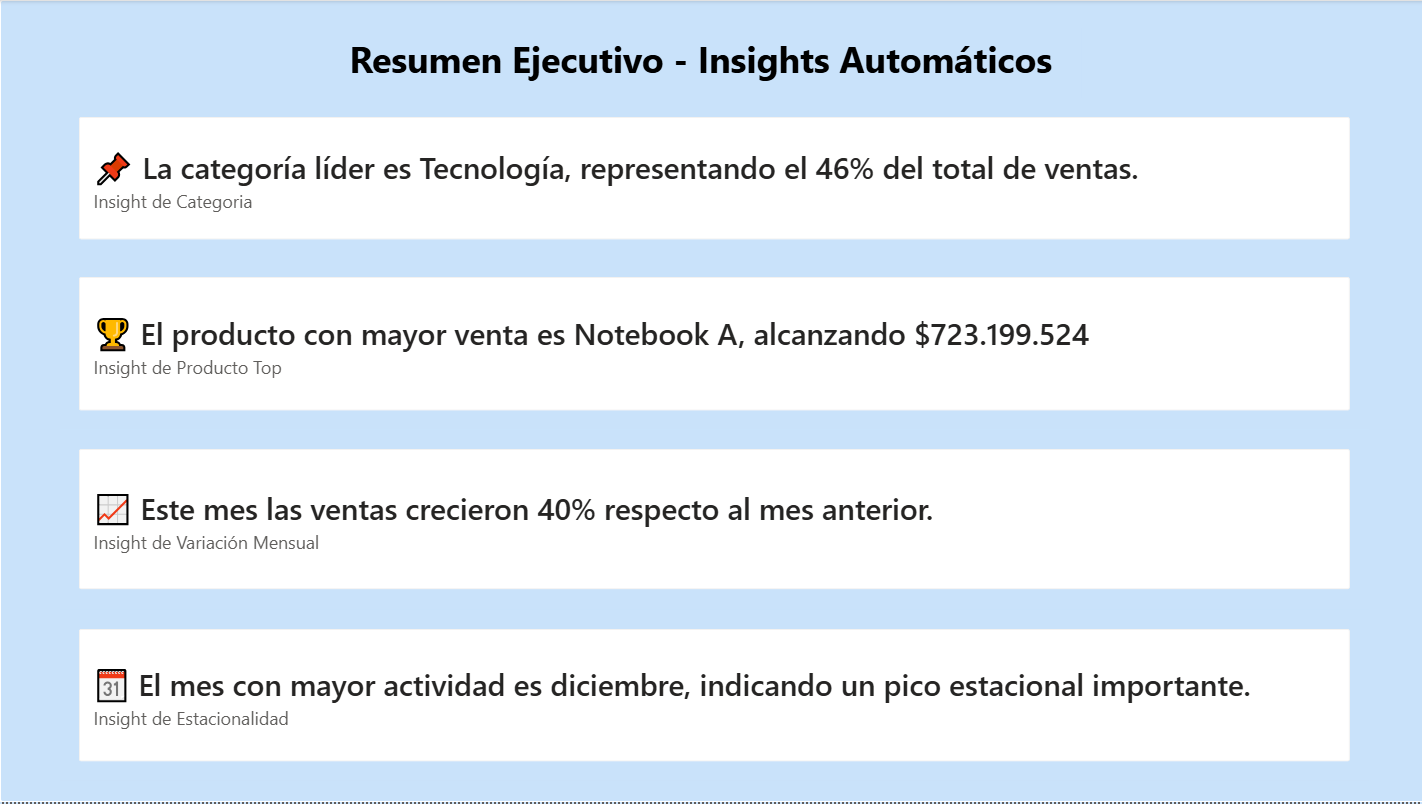

Layout of this report page (visuals, bound fields, positions):
{"tool":"powerbi","page":{"name":"Resumen","canvas":[1280,720],"ordinal":1},"visuals":[{"type":"cardVisual","fields":{"Data":["ventas.Categoria Lider Insight"]},"box":[54.3,88,1175.2,144.1],"z":0},{"type":"cardVisual","fields":{"Data":["ventas.Producto Top Insight"]},"box":[54.3,232,1175.2,154.4],"z":1000},{"type":"cardVisual","fields":{"Data":["ventas.Insight Variacion Mensual"]},"box":[54.3,386.4,1175.2,160.9],"z":2000},{"type":"cardVisual","fields":{"Data":["ventas.Insight Estacionalidad"]},"box":[54.3,547.4,1175.2,153.5],"z":3000},{"type":"textbox","box":[308.8,25.1,661.6,62.8],"z":4000}]}

Visuals, with their boxes in screenshot pixels (x1, y1, x2, y2), scaled from the page's 1280x720 canvas onto the 1422x804 screenshot:
cardVisual - ventas.Categoria Lider Insight: (x1=60, y1=98, x2=1366, y2=259)
cardVisual - ventas.Producto Top Insight: (x1=60, y1=259, x2=1366, y2=431)
cardVisual - ventas.Insight Variacion Mensual: (x1=60, y1=431, x2=1366, y2=611)
cardVisual - ventas.Insight Estacionalidad: (x1=60, y1=611, x2=1366, y2=783)
textbox: (x1=343, y1=28, x2=1078, y2=98)
